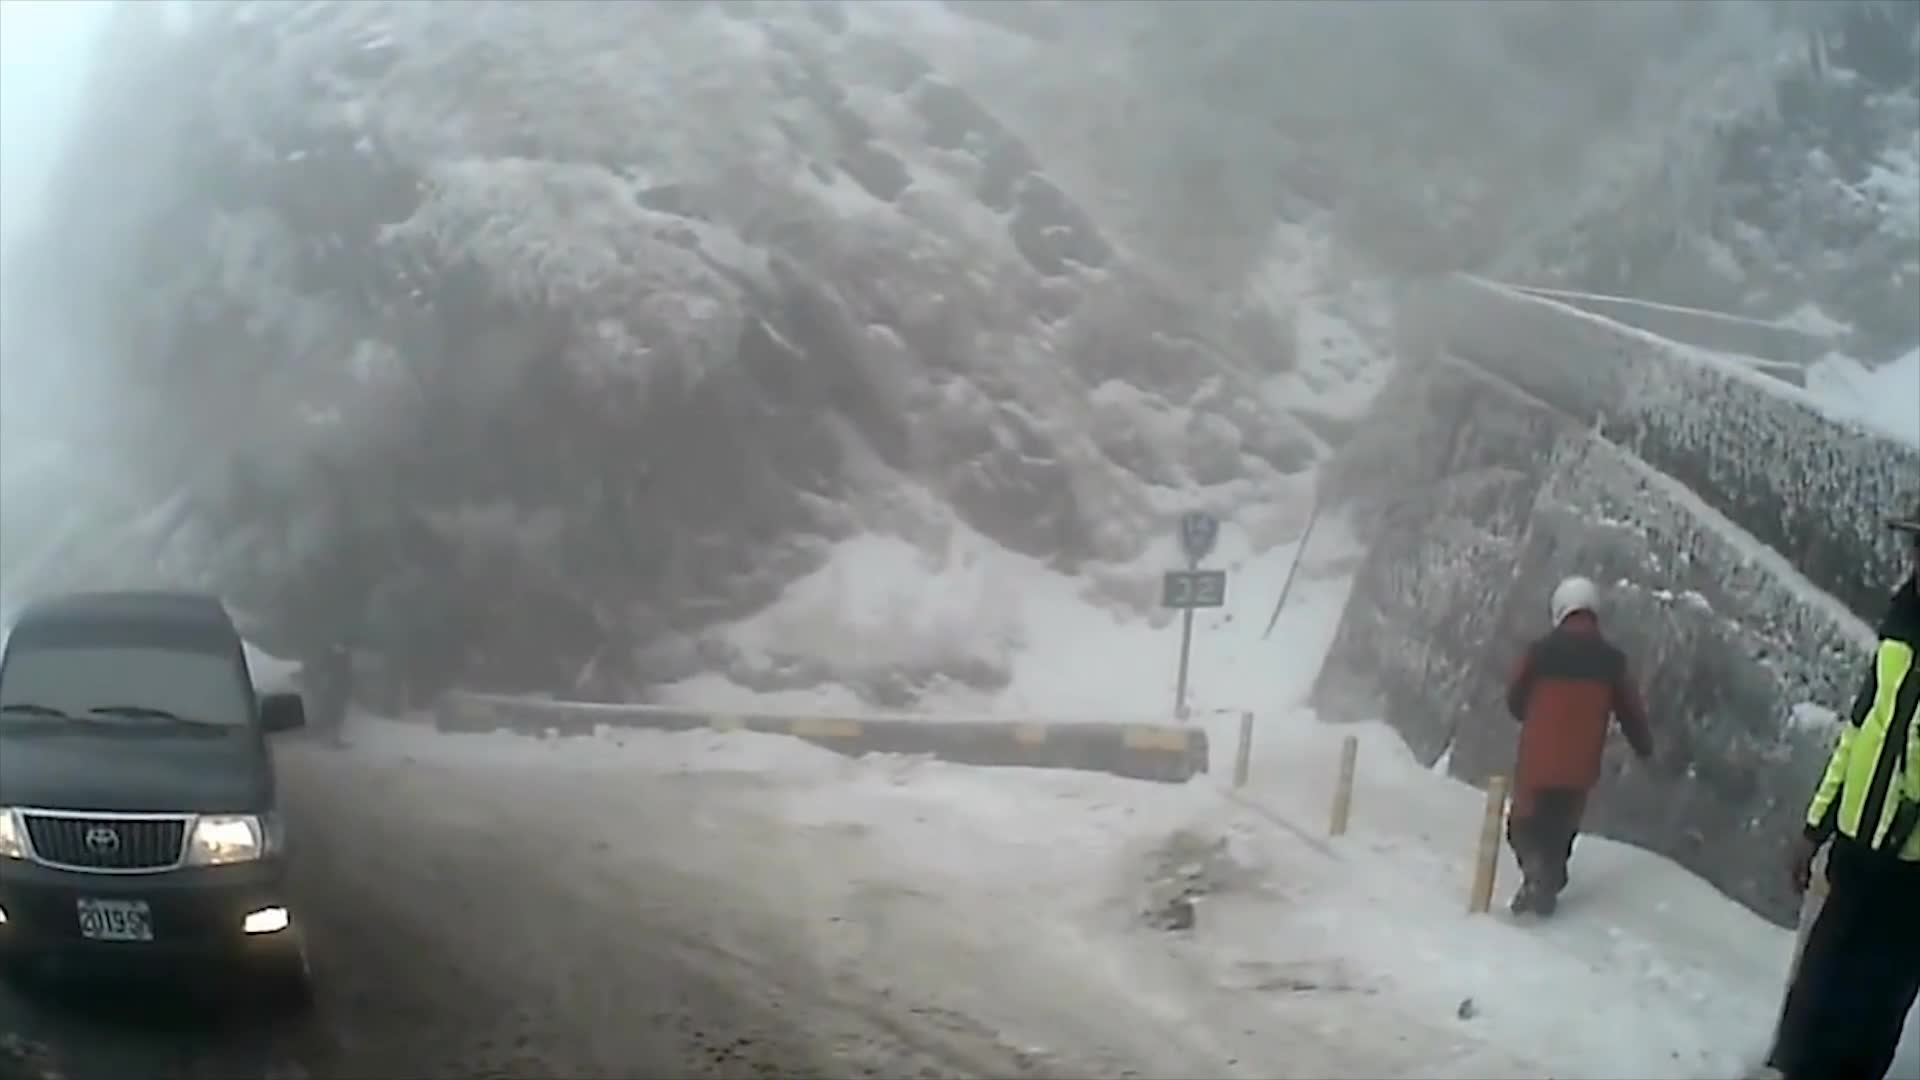pedestrian: (1745, 521, 1920, 1080), (1508, 567, 1645, 924)
vehicle: (0, 589, 318, 1010)
